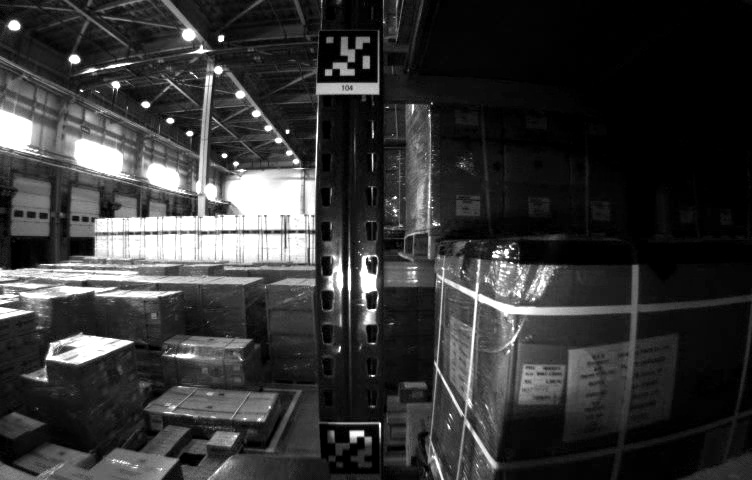True Barcode: (522, 362, 561, 407)
